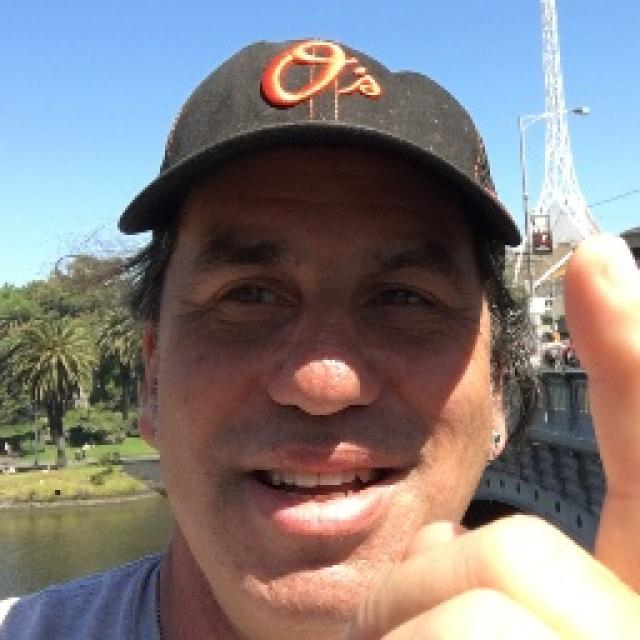earlobe: (133, 415, 170, 451), (487, 418, 511, 464)
eye: (366, 284, 439, 318), (222, 278, 286, 312)
nose: (274, 399, 376, 443)
wholeear: (487, 332, 516, 458), (135, 319, 163, 447)
